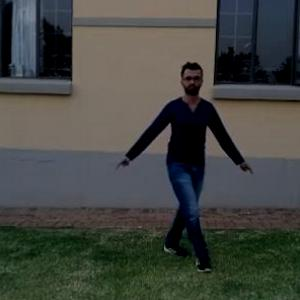land: (127, 71, 250, 242)
